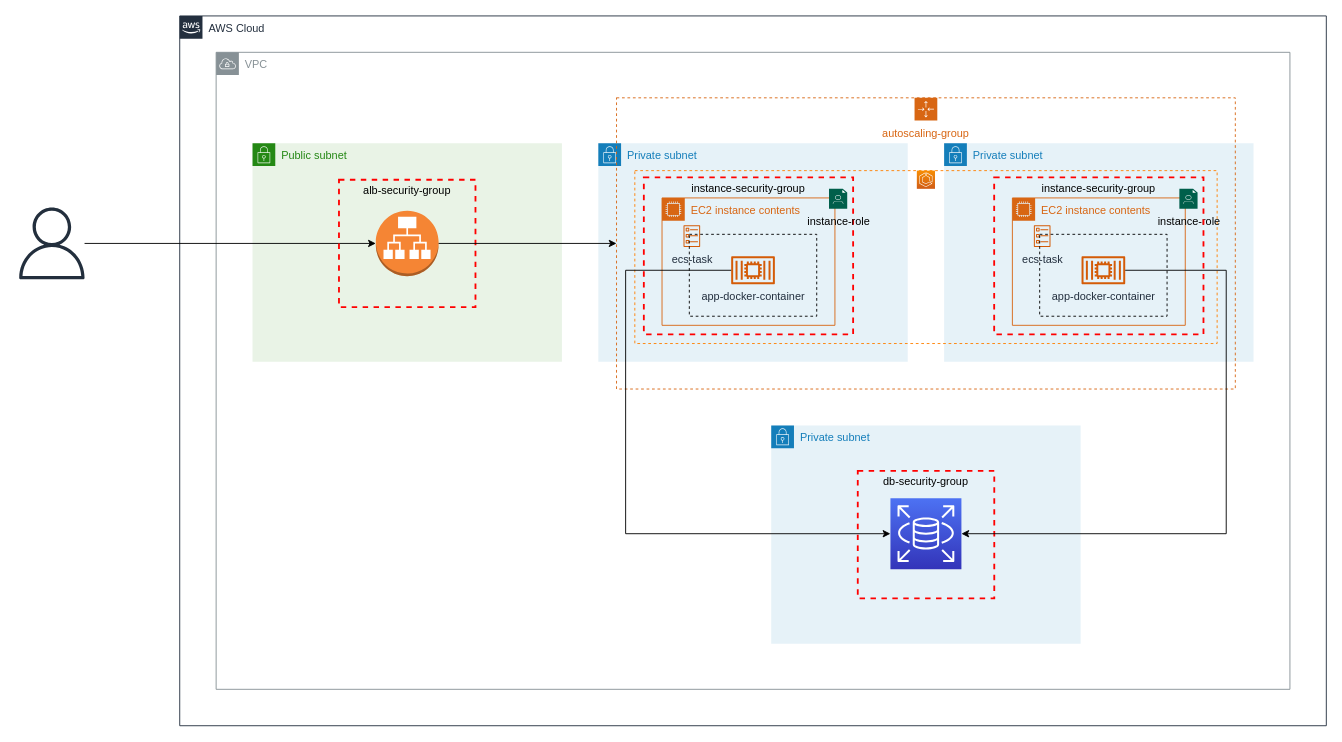
This 1342x742 diagram has some shape labels left out. The shapes that lost their labels are listed below. From the top down, each one's centre as x and y in pixels, then its label:
At pixel 925 179: "ECS".
At pixel 407 243: "alb".
At pixel 925 533: "postgres-db".
